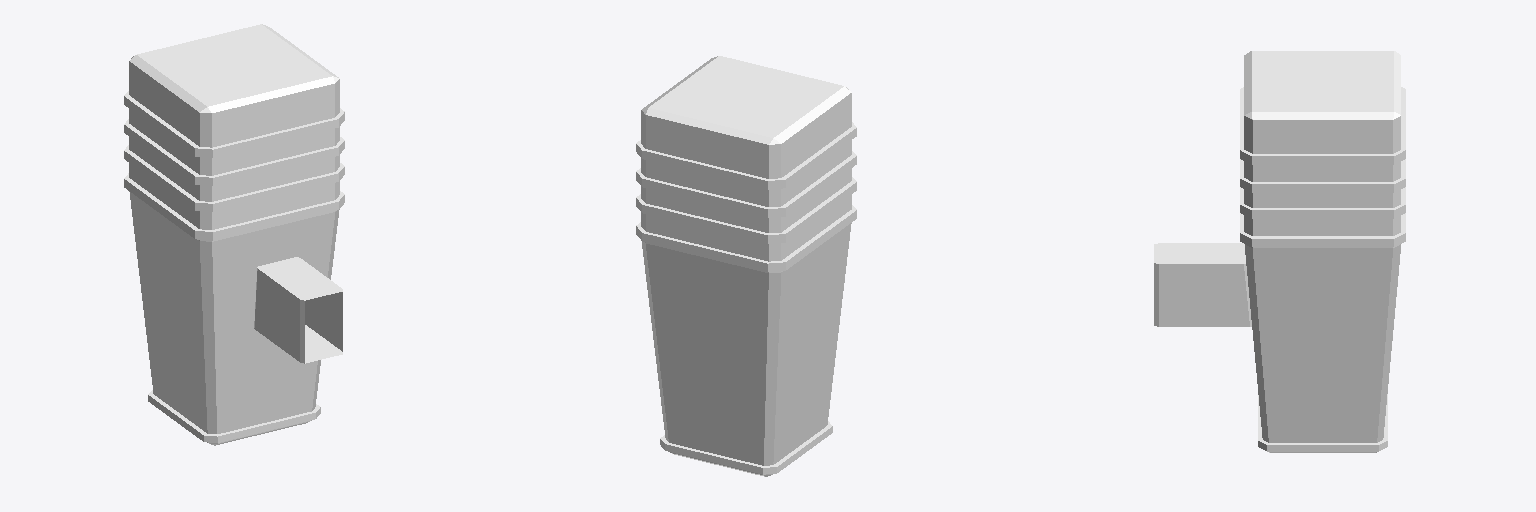
The picture shows the model from 3 angles: view 1: azimuth 30°, elevation 25°; view 2: azimuth 150°, elevation 25°; view 3: azimuth 270°, elevation 25°; orthographic projection.
Parts seen in each view (by area): view 1: aws_LightC_01_visualMesh; view 2: aws_LightC_01_visualMesh; view 3: aws_LightC_01_visualMesh.
Boxes of the visible parts, <box> form: aws_LightC_01_visualMesh: <box>124,24,344,445</box>; aws_LightC_01_visualMesh: <box>636,56,856,476</box>; aws_LightC_01_visualMesh: <box>1154,51,1405,452</box>.
Bounding box in the file's own units: 0.0784 × 0.175 × 0.1143.